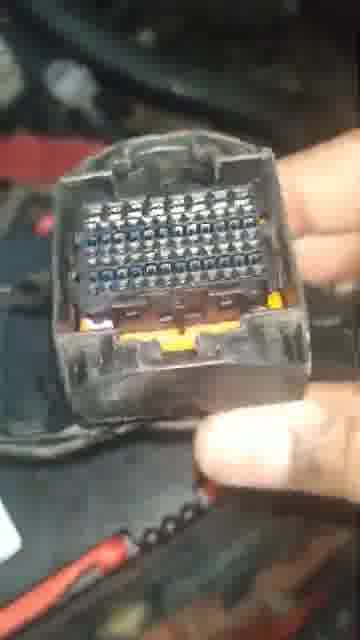connector: (52, 126, 311, 407)
